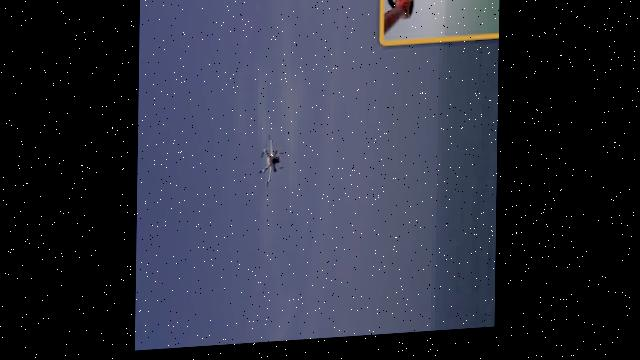drone: (252, 134, 292, 193)
